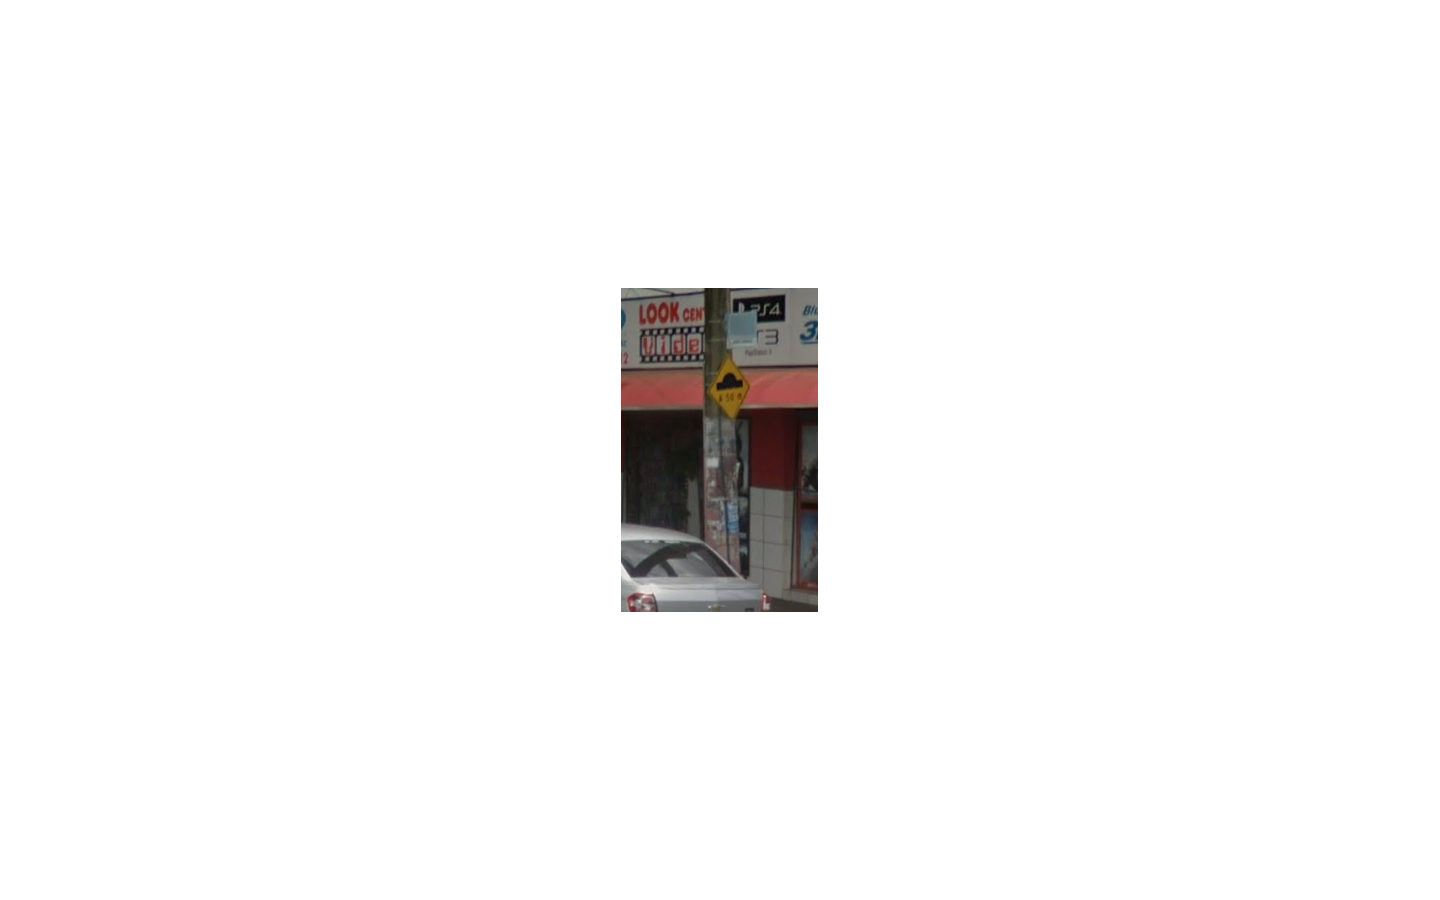l50m: (708, 356, 751, 421)
